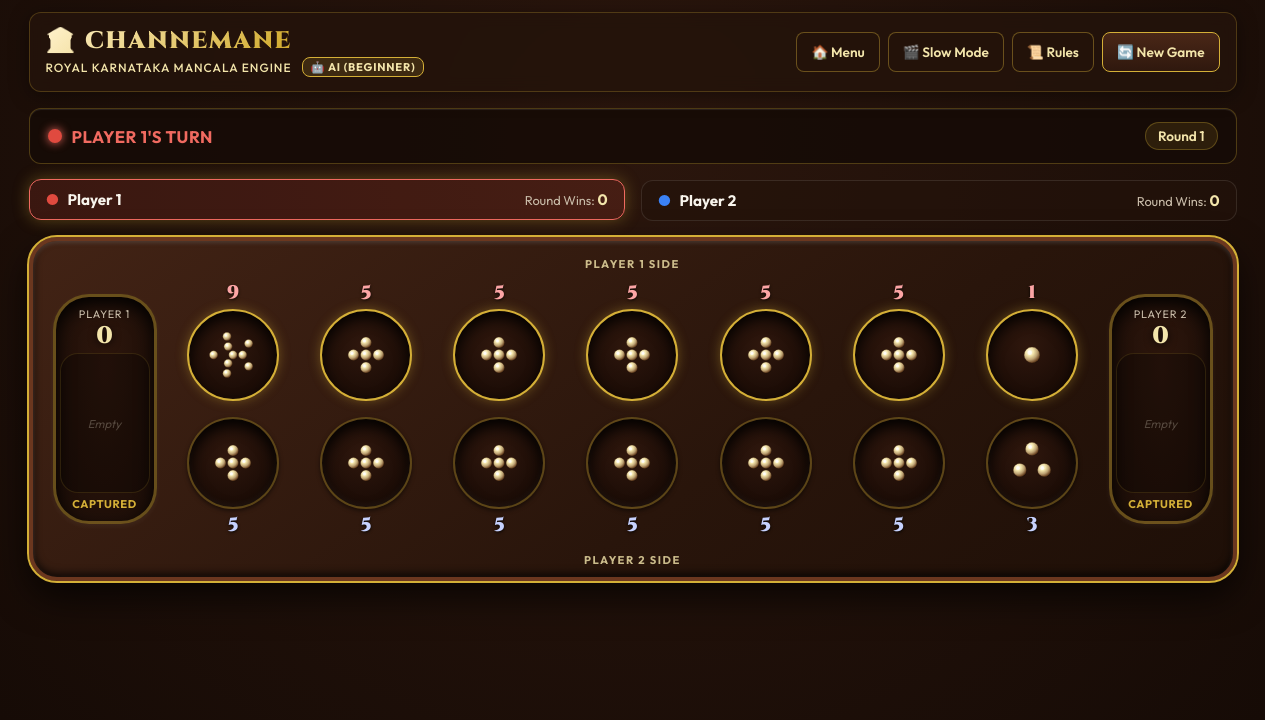
Test: Automatic AI Bonus Collection (Feature 1) › Test 5: AI auto-collects its bonus when human places the 4th seed on AI's side
The width and height of the screenshot is (1280, 720).
Player 1 selects pit 6 (1 seed)
Click the button with test id "pit-6" at (1032, 355), box [986,309,1078,401]
Wait 1400 ms
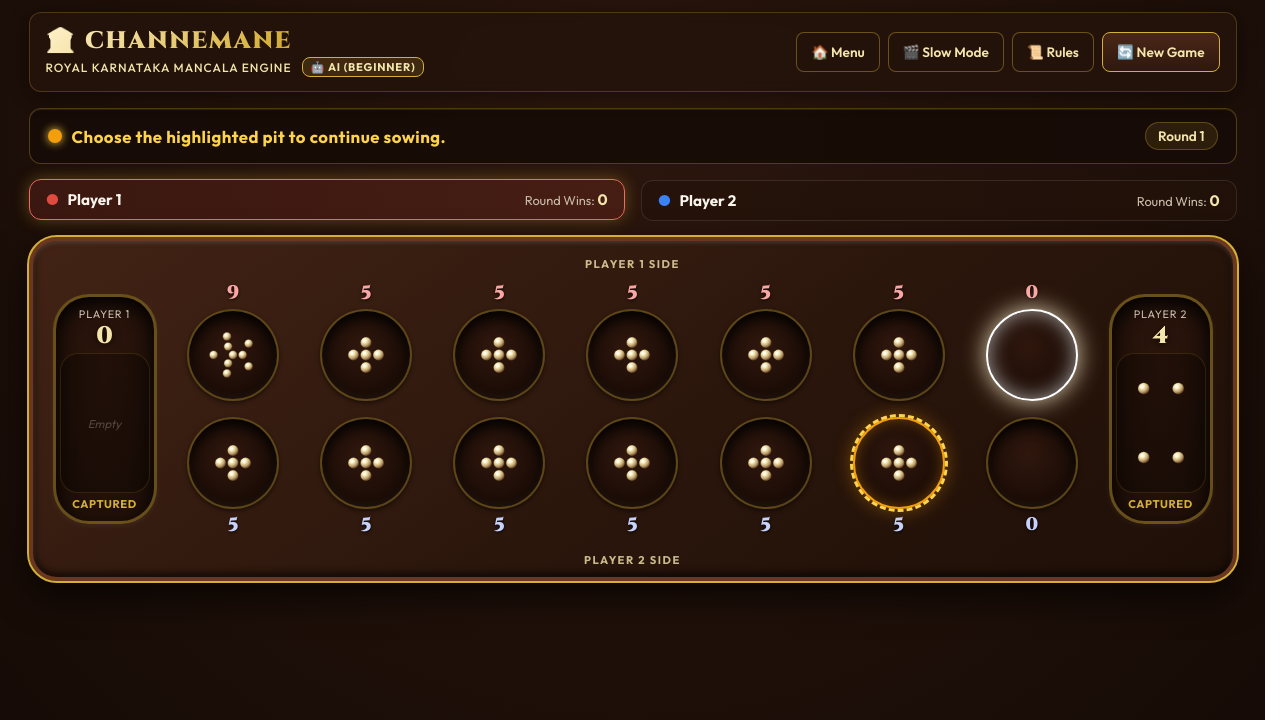
expect the text with test id "p2-captured-count" reads "4": met, box [1153,320,1168,352]
